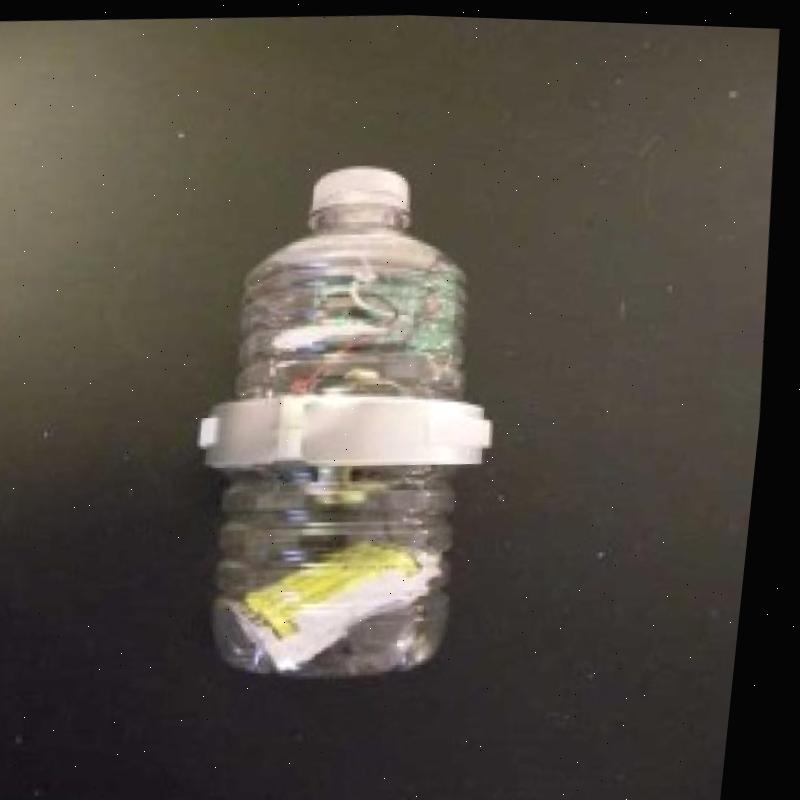botella: (197, 150, 506, 689)
